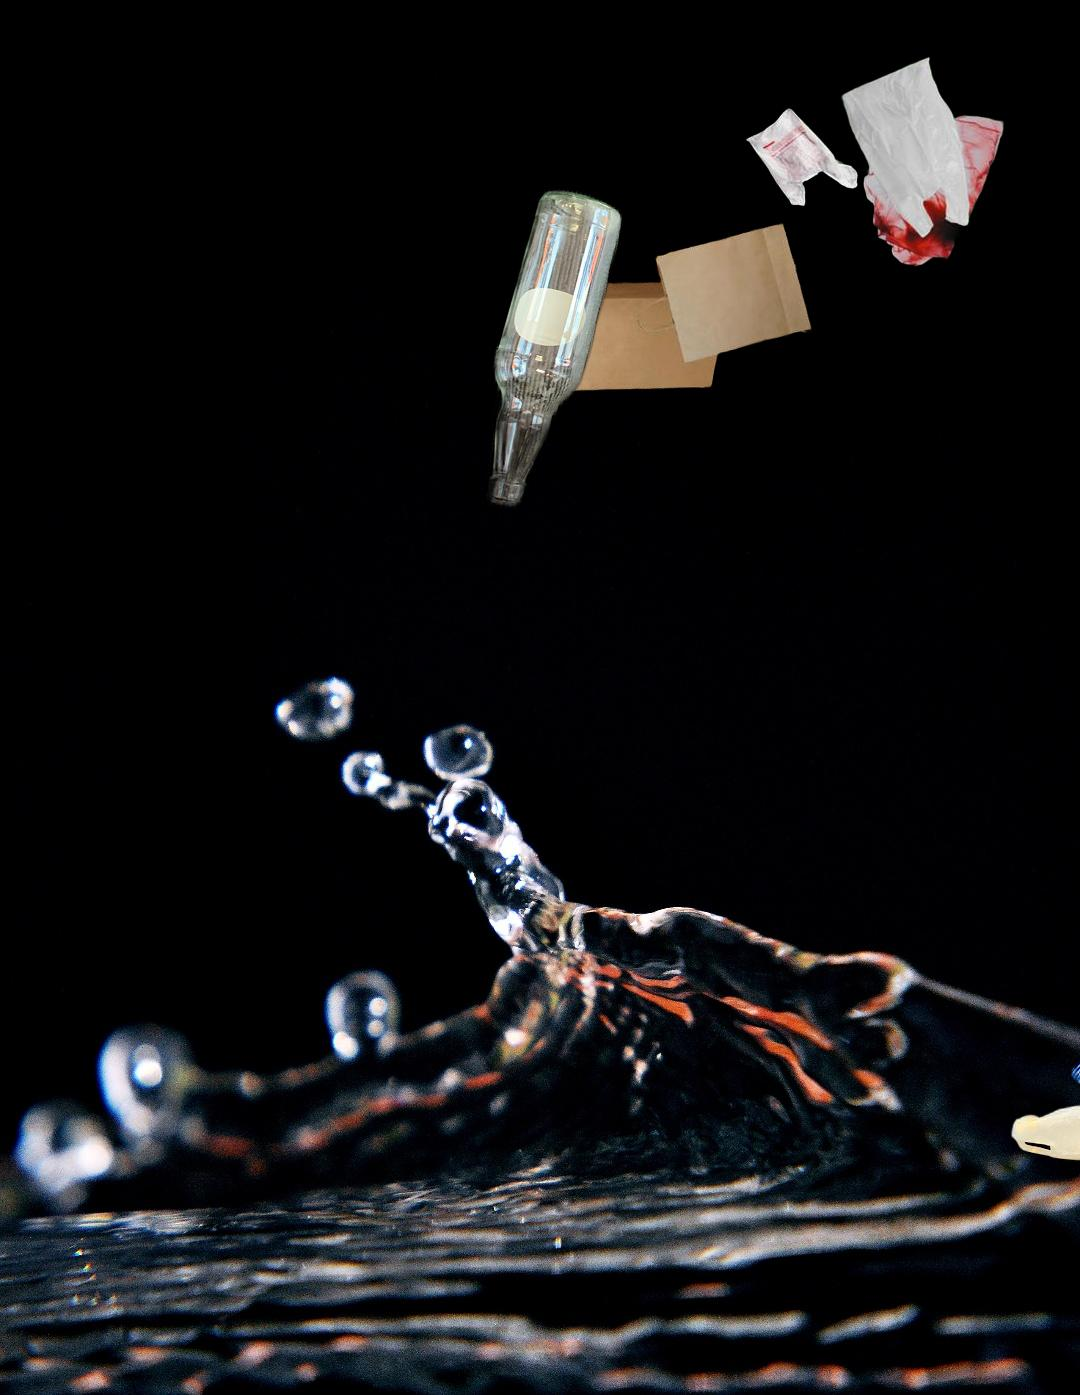glass: (469, 185, 626, 618), (1066, 1051, 1080, 1260)
paper-bag: (542, 220, 815, 394)
plastic-bag: (744, 55, 1008, 268)
plastic-bottles: (824, 774, 1080, 1169)
